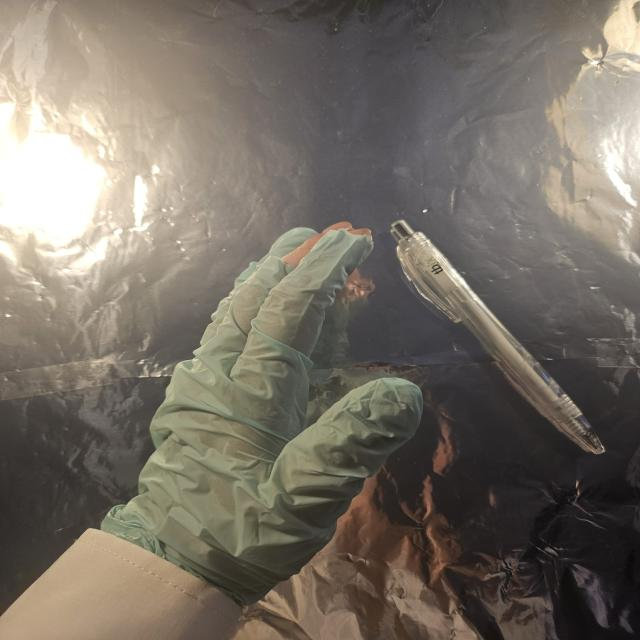gloves_damaged: (95, 219, 427, 606)
